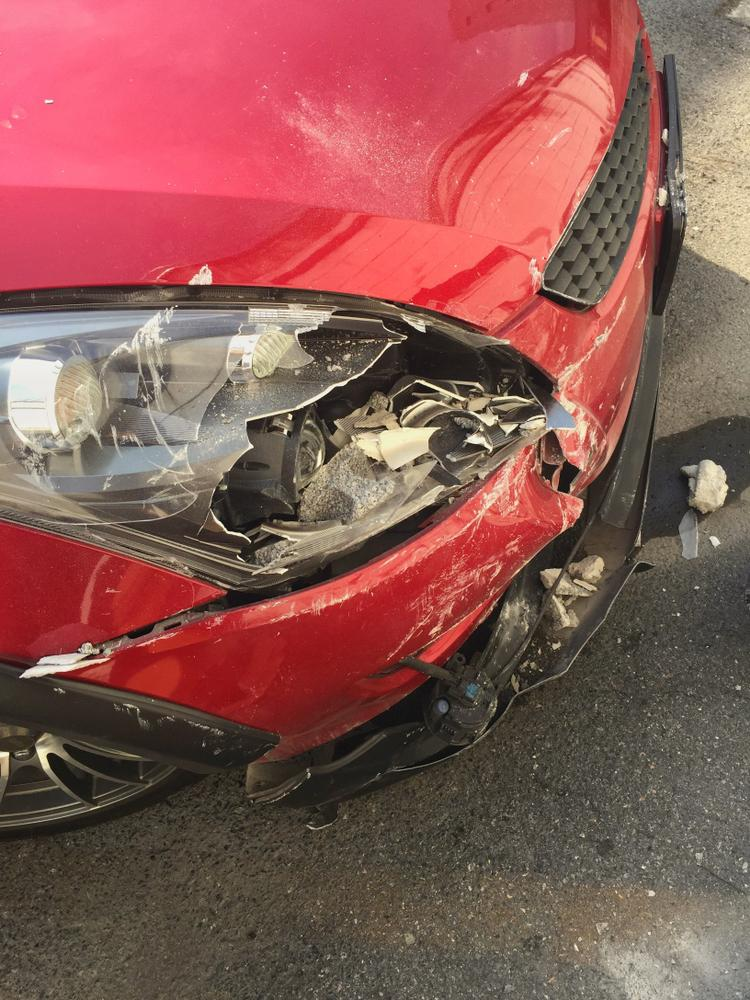lamp broken: (0, 299, 579, 659)
scratch: (256, 445, 579, 659), (555, 292, 636, 474)
